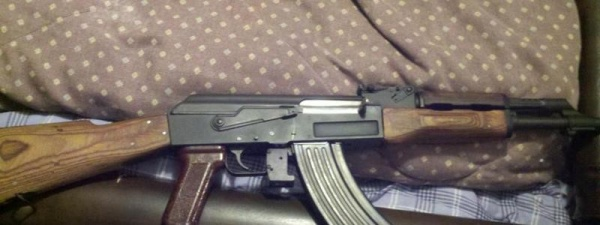ak47: (1, 86, 595, 225)
